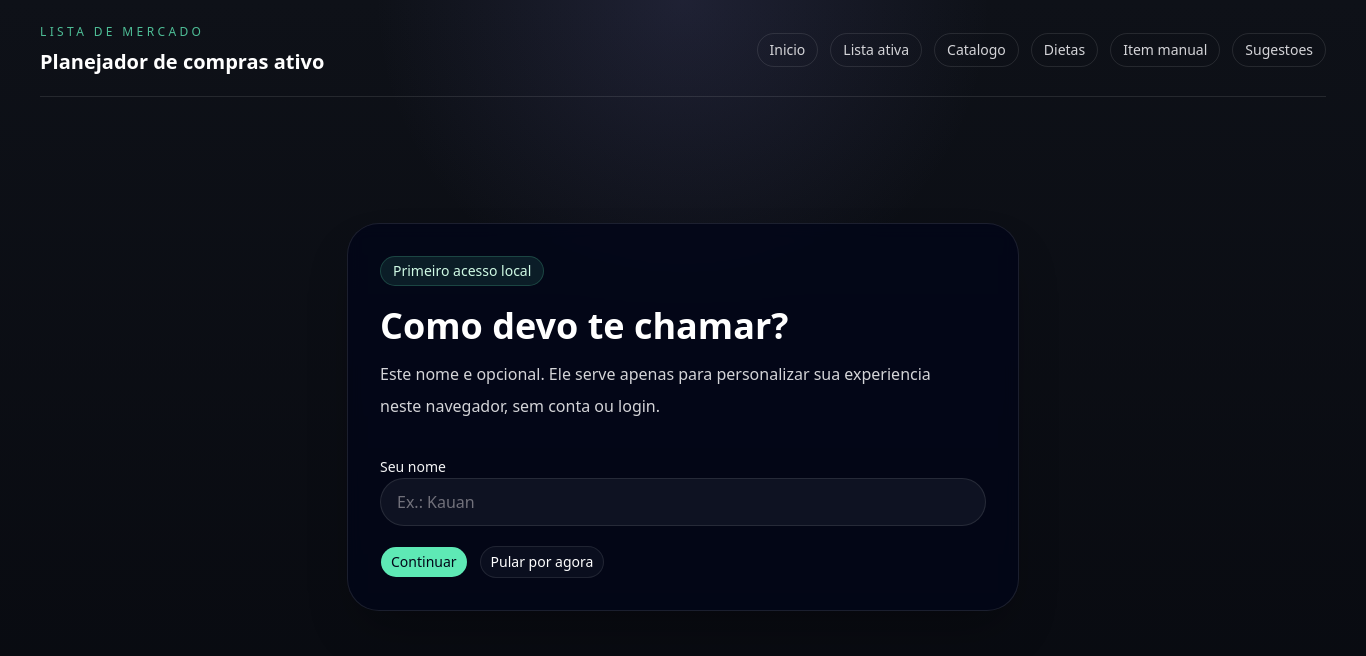
Test: shopping-list workspace › adds catalog products directly from the browser and updates quantity and total without leaving the flow
Step 1. Click the button "Pular por agora" → (542, 562), box [480, 546, 604, 578]
(page scrolled)
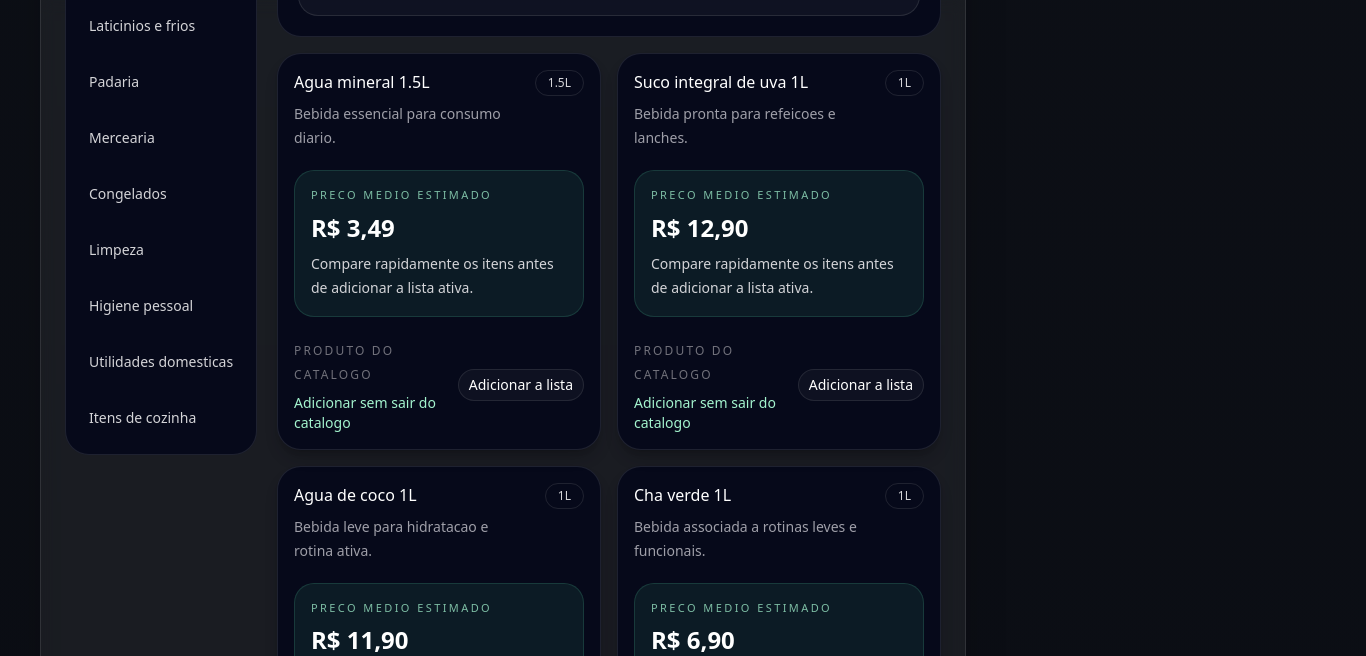
Step 2. Click the button with aria-label "Adicionar Agua mineral 1.5L a lista ativa" → (521, 384), box [458, 368, 584, 400]
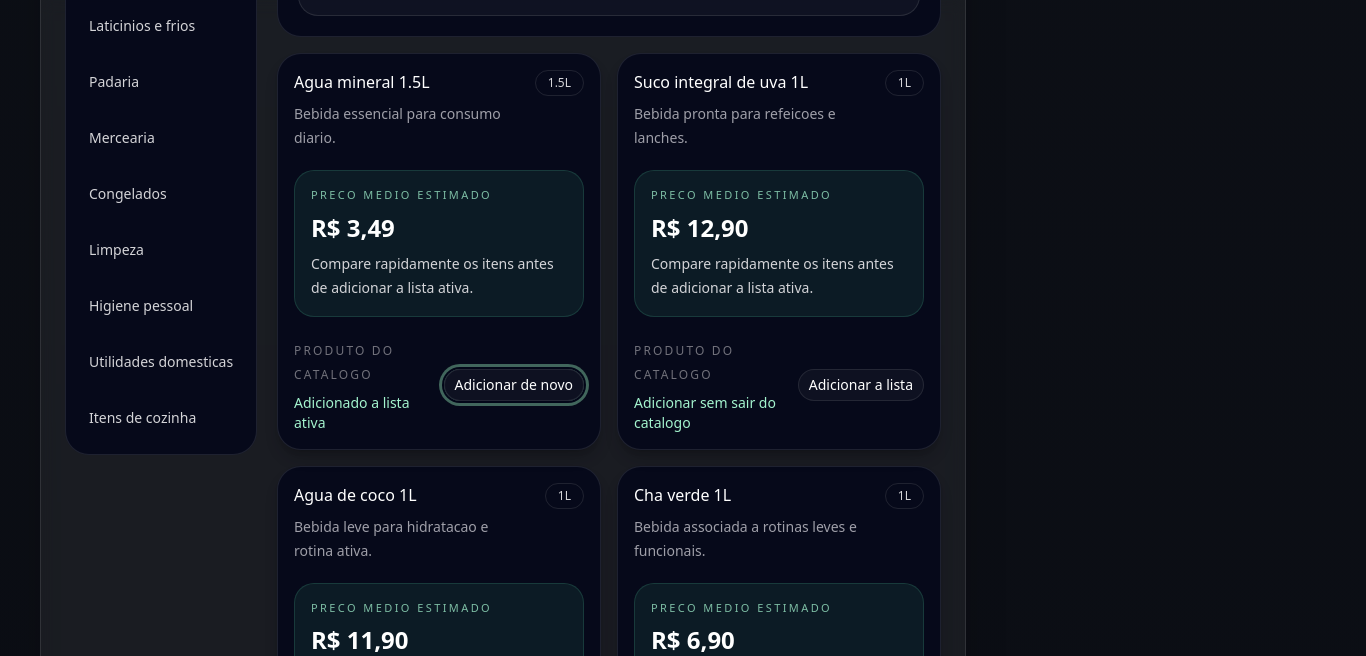
Now the text "Agua mineral 1.5L" is shown, box [294, 71, 430, 93]
Now the text "R$ 3,49" is shown, box [311, 210, 395, 244]
Now the text "Adicionado a lista ativa" is shown, box [294, 392, 410, 432]
Step 3. Click the button with aria-label "Adicionar Agua mineral 1.5L a lista ativa" → (514, 384), box [444, 368, 584, 400]
(page scrolled)
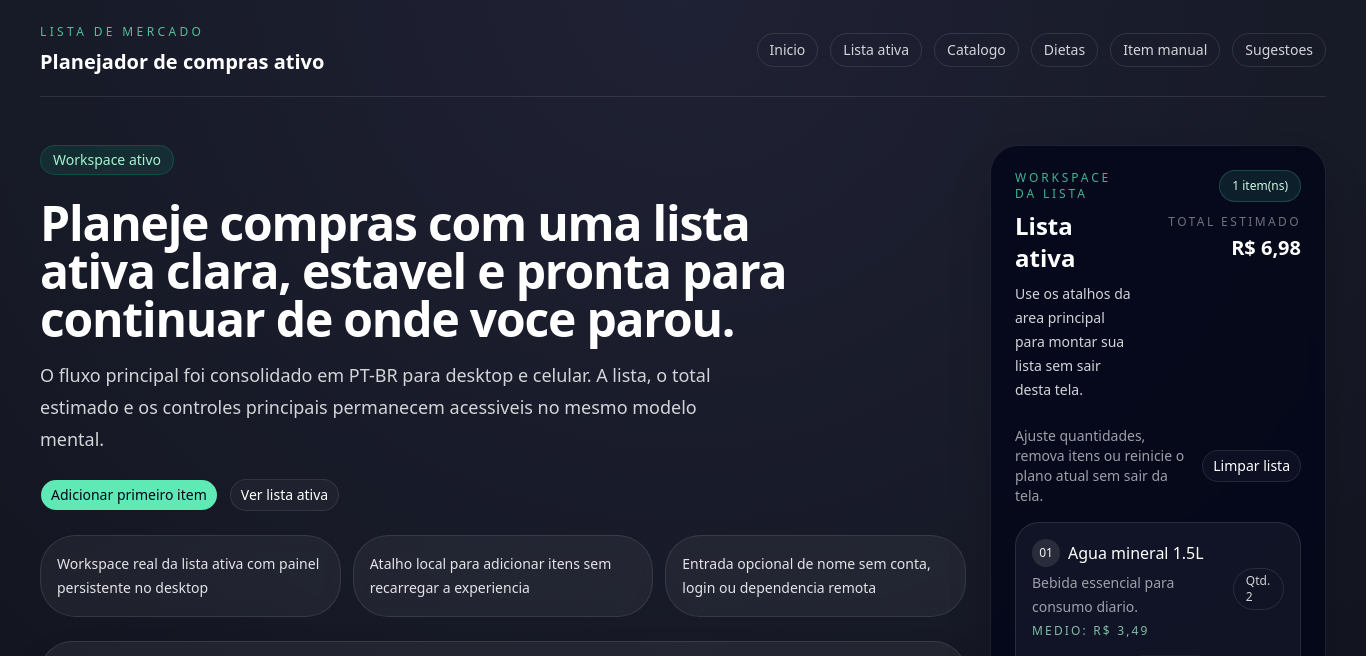
Now the text "Qtd. 2" is shown, box [1233, 568, 1284, 610]
Now the text "R$ 6,98" is shown, box [1231, 234, 1301, 261]
